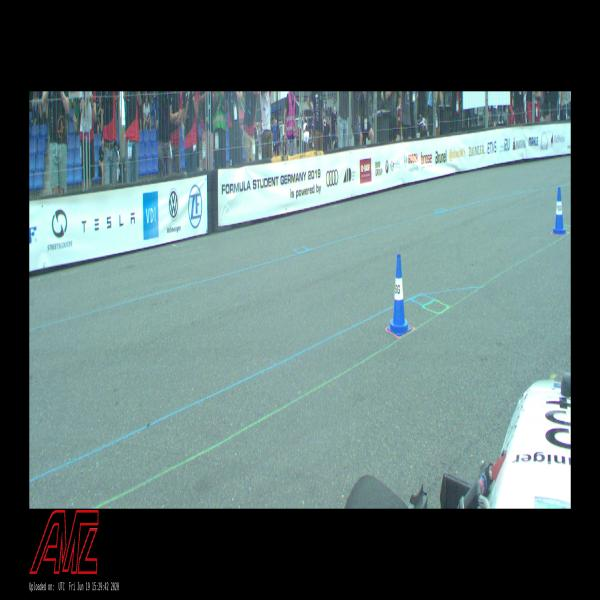blue_cone: (389, 256, 408, 334), (552, 189, 566, 234)
